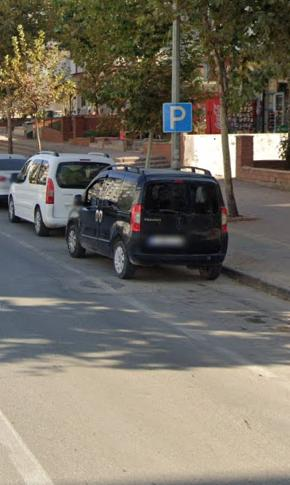park: (163, 101, 190, 131)
